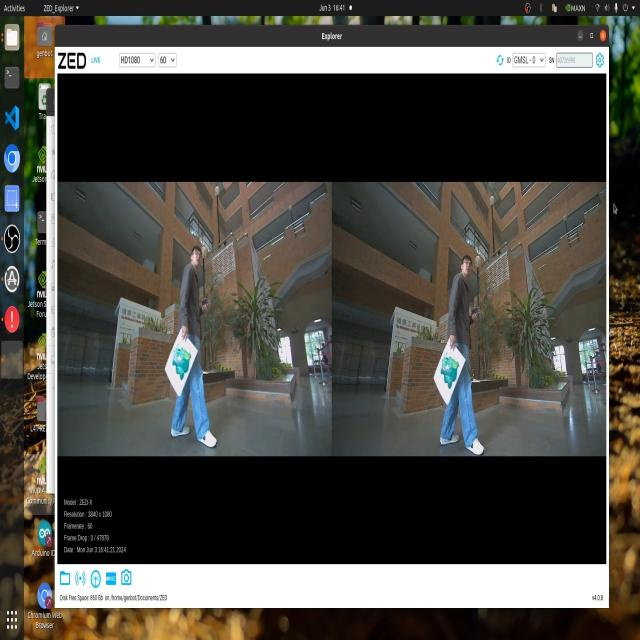green: (170, 348, 188, 388), (443, 349, 458, 394)
